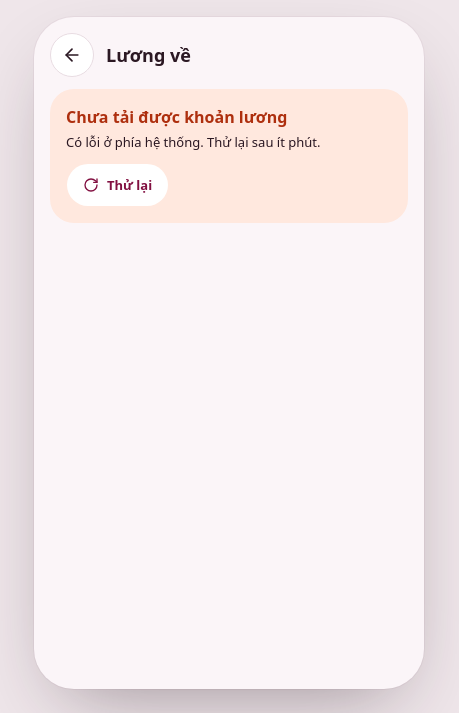
Test: Lương về (xác nhận một chạm) › rỗng và lỗi
Click the button "Thử lại". click: (118, 185)
box: [66,163,169,207]
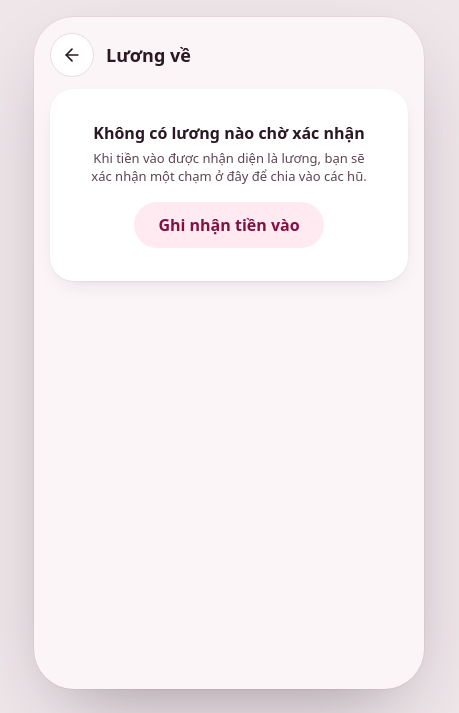
Check: the heading "Không có lương nào chờ xác nhận" is shown, box [74,121,384,145]
